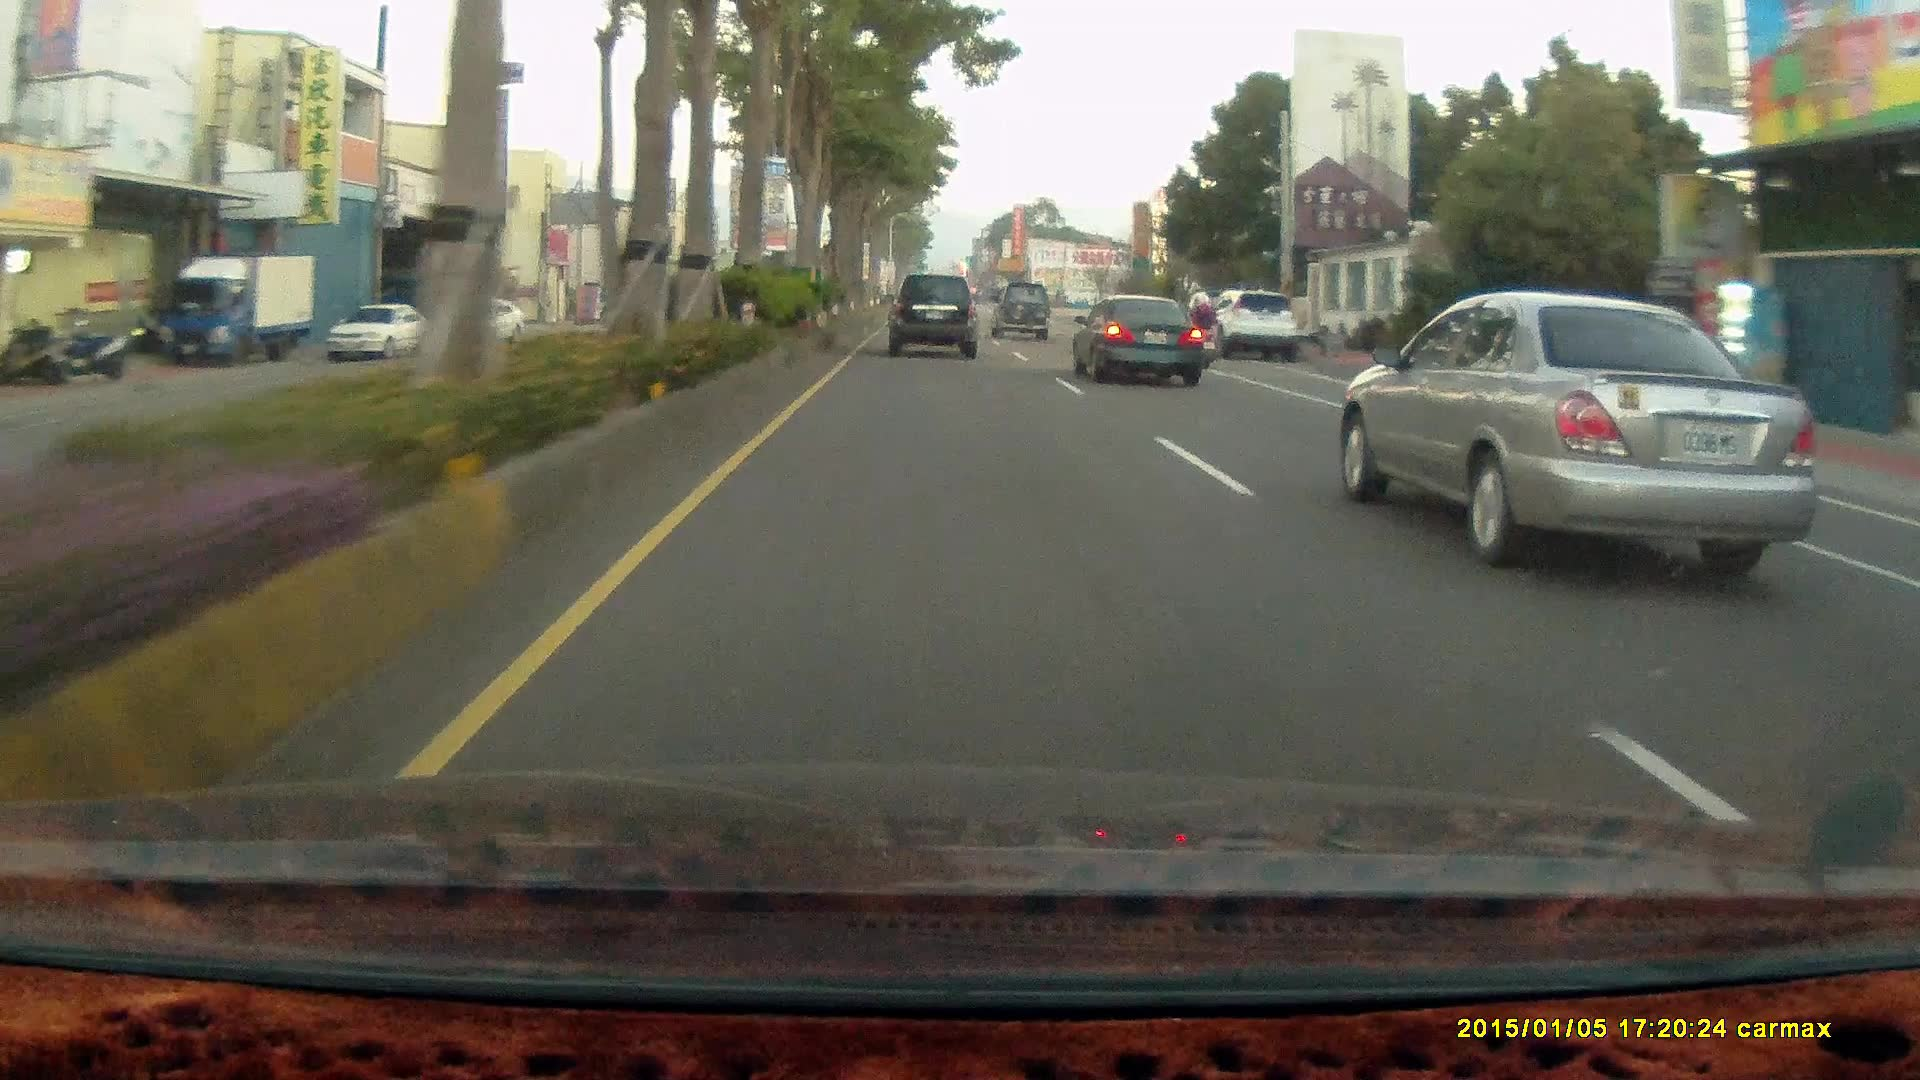rider: (1182, 293, 1221, 370)
vehicle: (1328, 295, 1814, 579), (157, 253, 319, 367), (158, 255, 320, 366), (1070, 299, 1210, 394), (1068, 293, 1204, 387), (884, 274, 980, 362), (885, 274, 976, 360), (1197, 291, 1300, 363), (1215, 293, 1299, 363), (326, 303, 431, 359), (327, 305, 432, 360), (438, 304, 524, 353), (989, 285, 1052, 347), (989, 281, 1052, 342)
